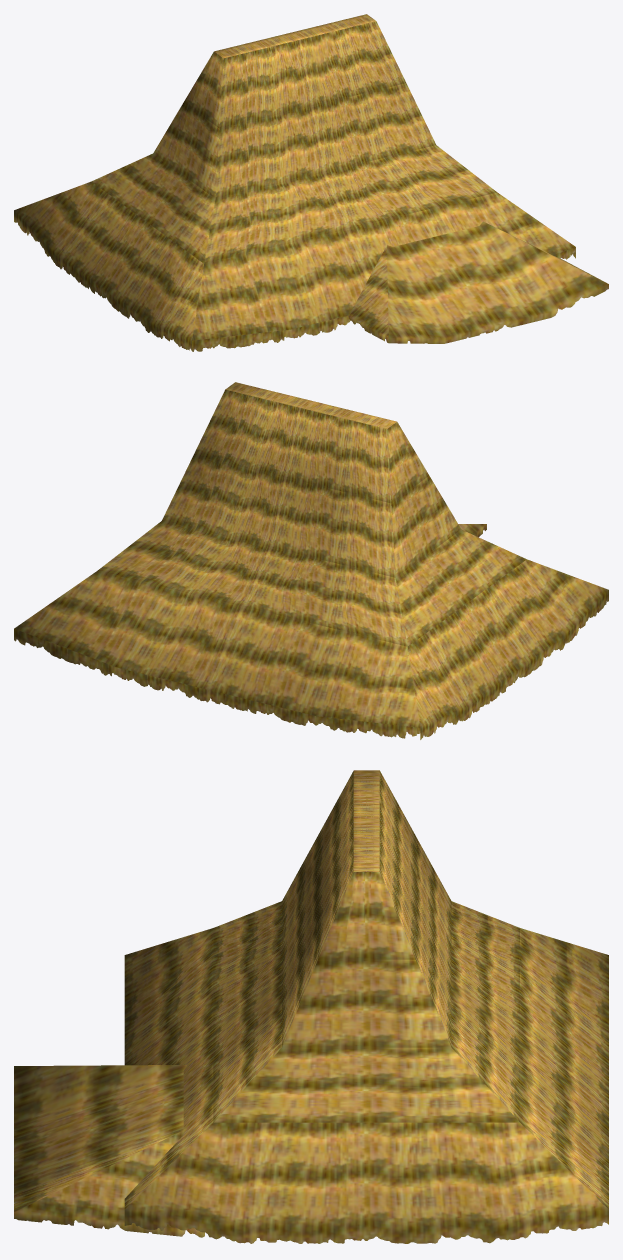
Rendered from roof_storehouse.dae.
The picture shows the model from 3 angles, top to bottom: view 1: azimuth 30°, elevation 25°; view 2: azimuth 150°, elevation 25°; view 3: azimuth 270°, elevation 25°; orthographic projection. The views are drawn at different scales.
Visible parts, largest first — view 1: storehouse.001; view 2: storehouse.001; view 3: storehouse.001.
Boxes of the visible parts, x1,y1,x2,y2 form: storehouse.001: (14,14,608,351); storehouse.001: (14,382,608,739); storehouse.001: (14,770,608,1243).
Bounding box in the file's own units: 12.26 × 12.1 × 6.67.
